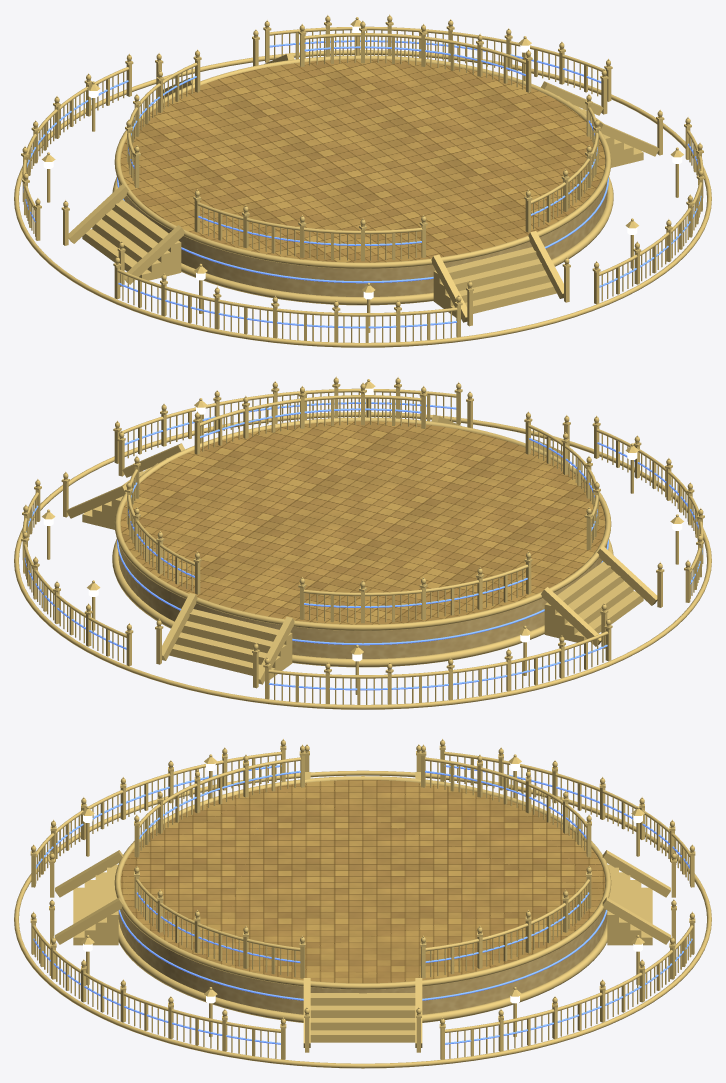
File: island_dais.glb
The picture shows the model from 3 angles, top to bottom: view 1: azimuth 30°, elevation 25°; view 2: azimuth 150°, elevation 25°; view 3: azimuth 270°, elevation 25°; orthographic projection.
Parts seen in each view (by area): view 1: drum, kerb, cornice, plinth, rail.004, step.012, rail, step.013, step.015, step.014, band, cheek.004 (+16 smaller); view 2: drum, kerb, cornice, plinth, rail.002, step.004, rail.006, step.005, step.007, step.006, band, cheek.005 (+16 smaller); view 3: drum, kerb, cornice, plinth, step, step.003, step.001, step.002, band, rail, rail.006, rail.002 (+11 smaller).
Boxes of the visible parts, x1,y1,x2,y2 form: drum: [118, 59, 607, 296]; kerb: [14, 50, 711, 347]; cornice: [114, 55, 611, 268]; plinth: [112, 177, 613, 305]; rail.004: [117, 269, 457, 316]; step.012: [446, 247, 536, 279]; rail: [269, 26, 605, 71]; step.013: [453, 259, 541, 291]; step.015: [465, 283, 553, 313]; step.014: [459, 271, 547, 302]; band: [117, 177, 608, 283]; cheek.004: [68, 184, 128, 243]; drum: [118, 421, 607, 658]; kerb: [14, 412, 711, 709]; cornice: [114, 417, 611, 630]; plinth: [112, 539, 613, 667]; rail.002: [268, 631, 608, 678]; step.004: [189, 609, 279, 641]; rail.006: [120, 388, 456, 433]; step.005: [184, 621, 272, 653]; step.007: [172, 645, 260, 675]; step.006: [178, 633, 266, 664]; band: [117, 539, 608, 645]; cheek.005: [597, 546, 657, 605]; drum: [118, 780, 607, 1014]; kerb: [14, 770, 711, 1068]; cornice: [114, 776, 611, 989]; plinth: [118, 920, 607, 1022]; step: [310, 993, 415, 1005]; step.003: [310, 1030, 415, 1042]; step.001: [310, 1005, 415, 1017]; step.002: [310, 1018, 415, 1030]; band: [118, 910, 607, 1000]; rail: [445, 925, 693, 1032]; rail.006: [32, 925, 280, 1032]; rail.002: [444, 751, 689, 857].
Bounding box in the file's own units: 19.98 × 2.59 × 19.98.
5 materials, 2 textured.
